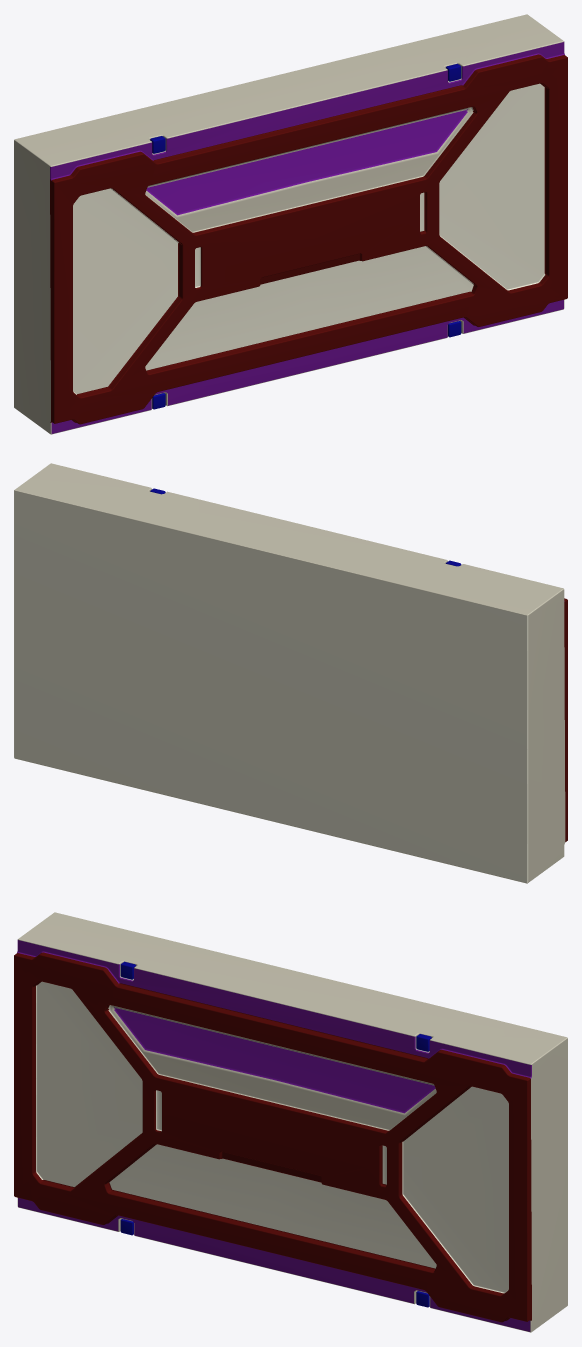
File: Scifi2_WallE.fbx
3 renders of one model, top to bottom at view 1: azimuth 30°, elevation 25°; view 2: azimuth 150°, elevation 25°; view 3: azimuth 330°, elevation 25°, orthographic.
Visible parts, largest first — view 1: WallPanelE; view 2: WallPanelE; view 3: WallPanelE.
Boxes of the visible parts, <box> form: WallPanelE: <box>14,14,567,434</box>; WallPanelE: <box>14,463,567,883</box>; WallPanelE: <box>14,912,567,1332</box>.
Bounding box in the file's own units: 800 × 400 × 110.
